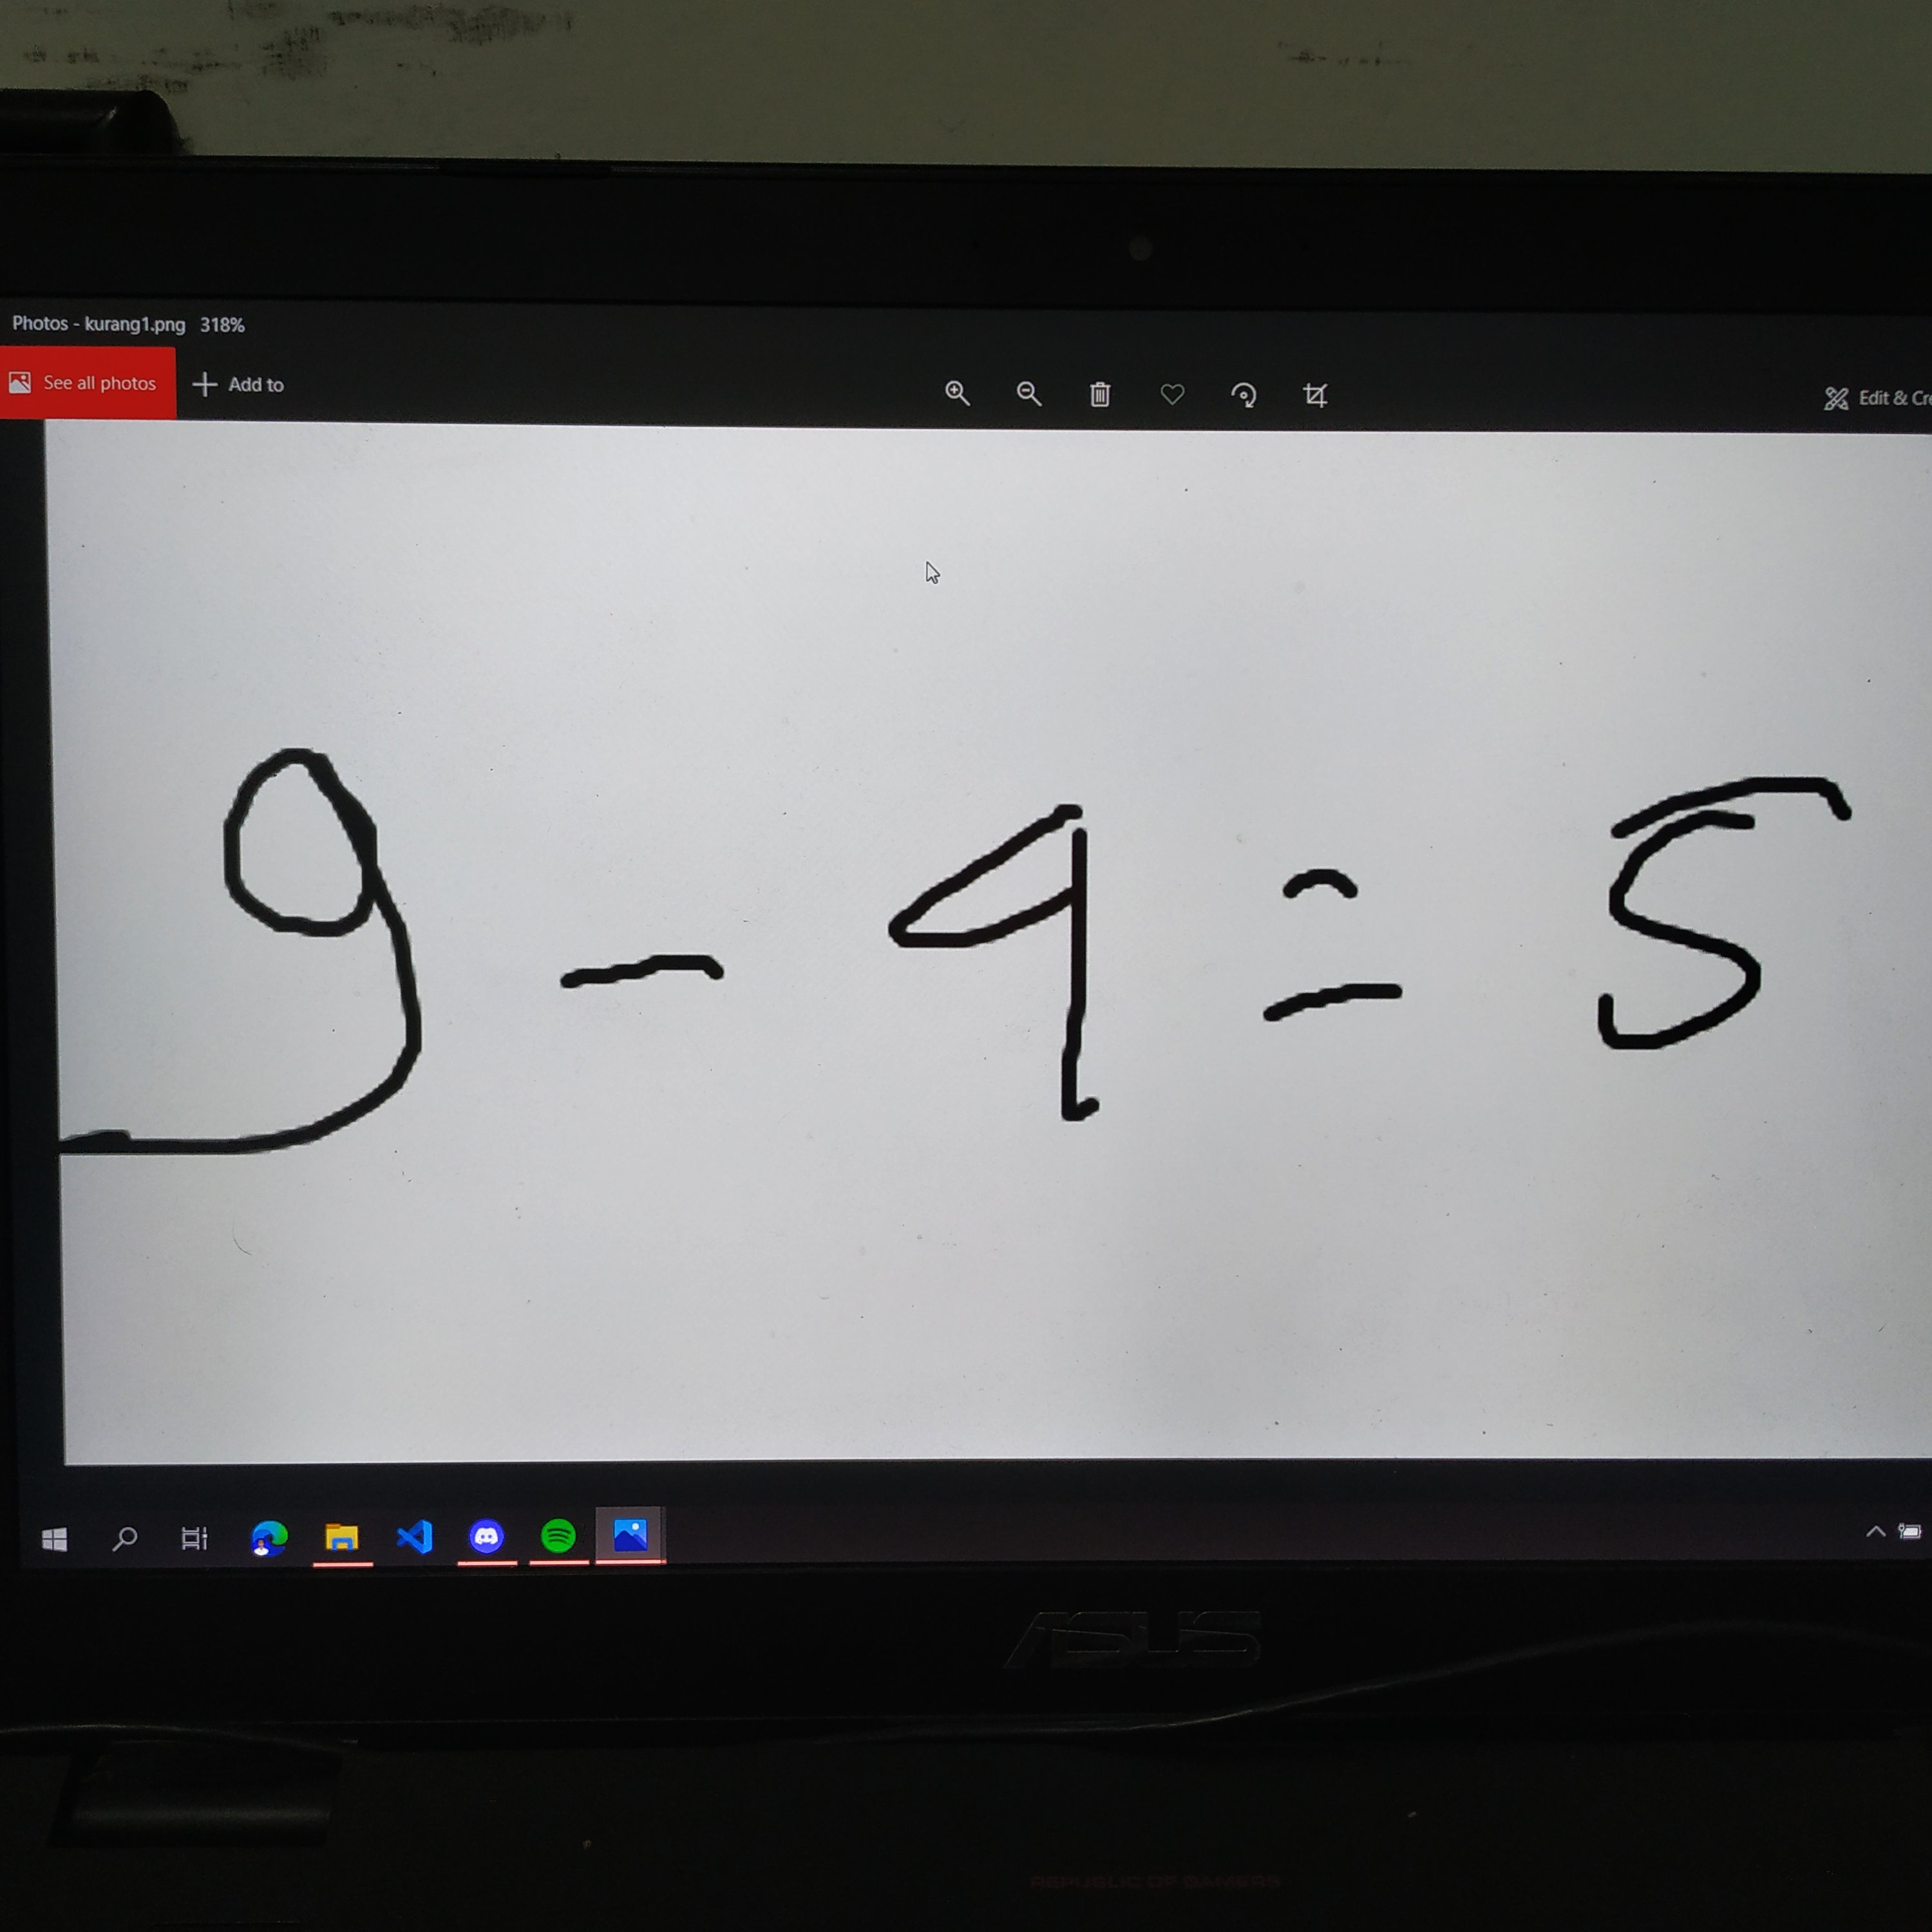equal: (1224, 849, 1444, 1032)
min: (528, 912, 773, 1036)
num4: (848, 768, 1137, 1138)
num5: (1557, 739, 1874, 1074)
num9: (42, 717, 455, 1175)
